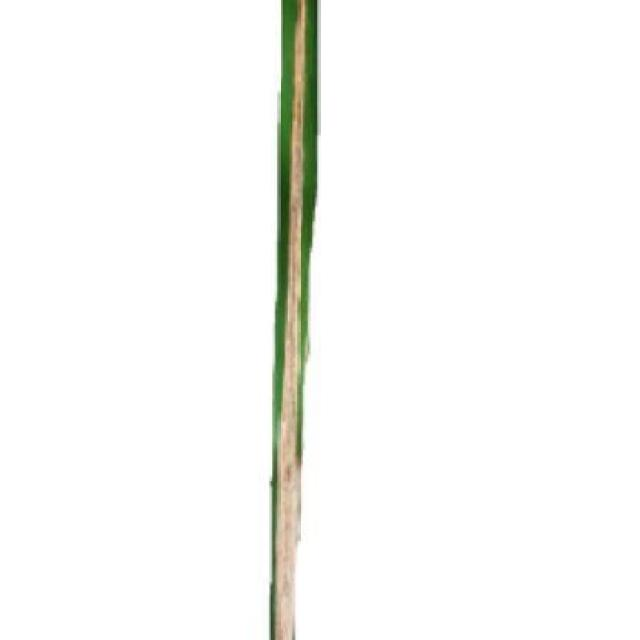Brown_Spot: (266, 0, 323, 640)
